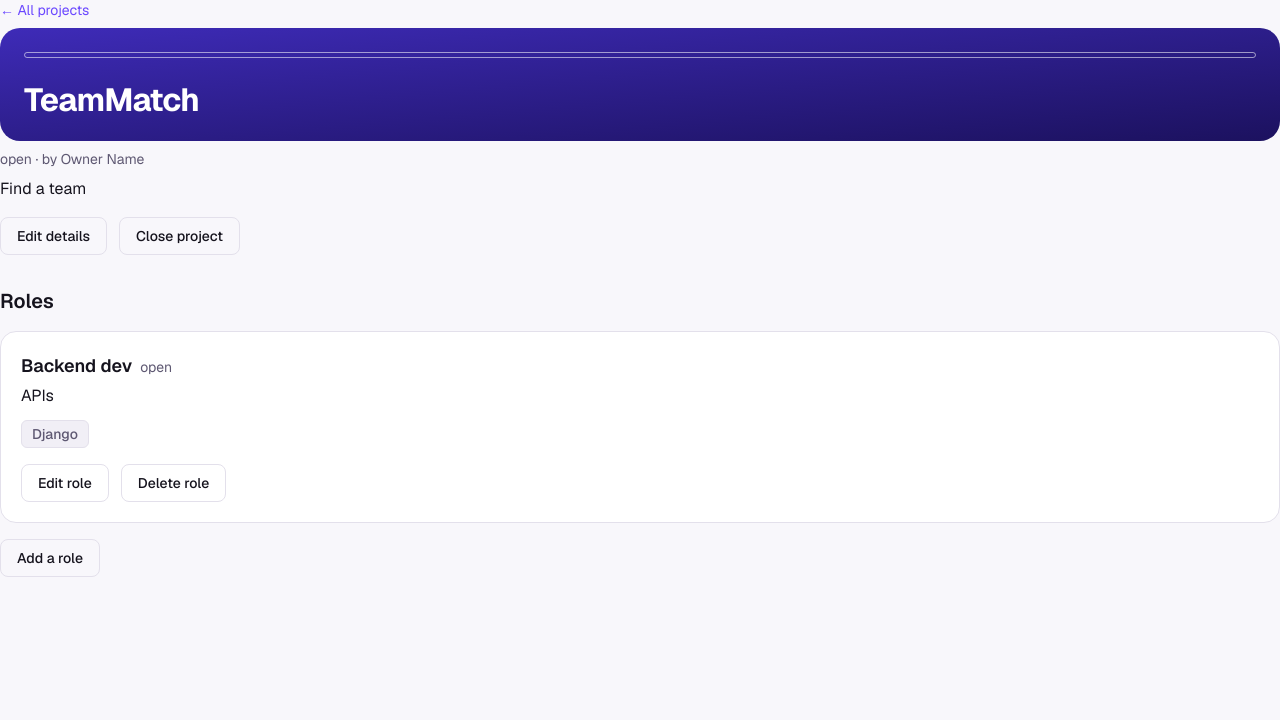
Test: shows the server's reason when a project can't be closed
Click the button "Close project" at (179, 236), box [119, 217, 240, 255]
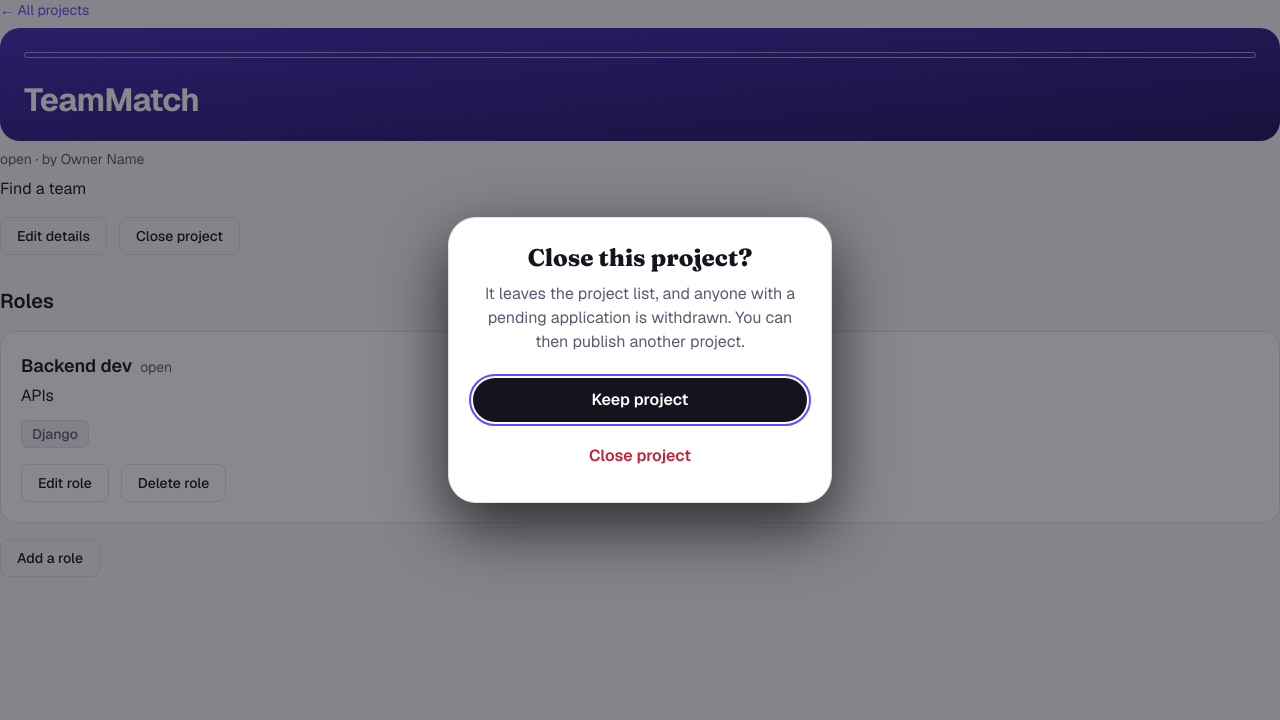
Click the button "Close project" at (640, 456), box [569, 434, 711, 478]
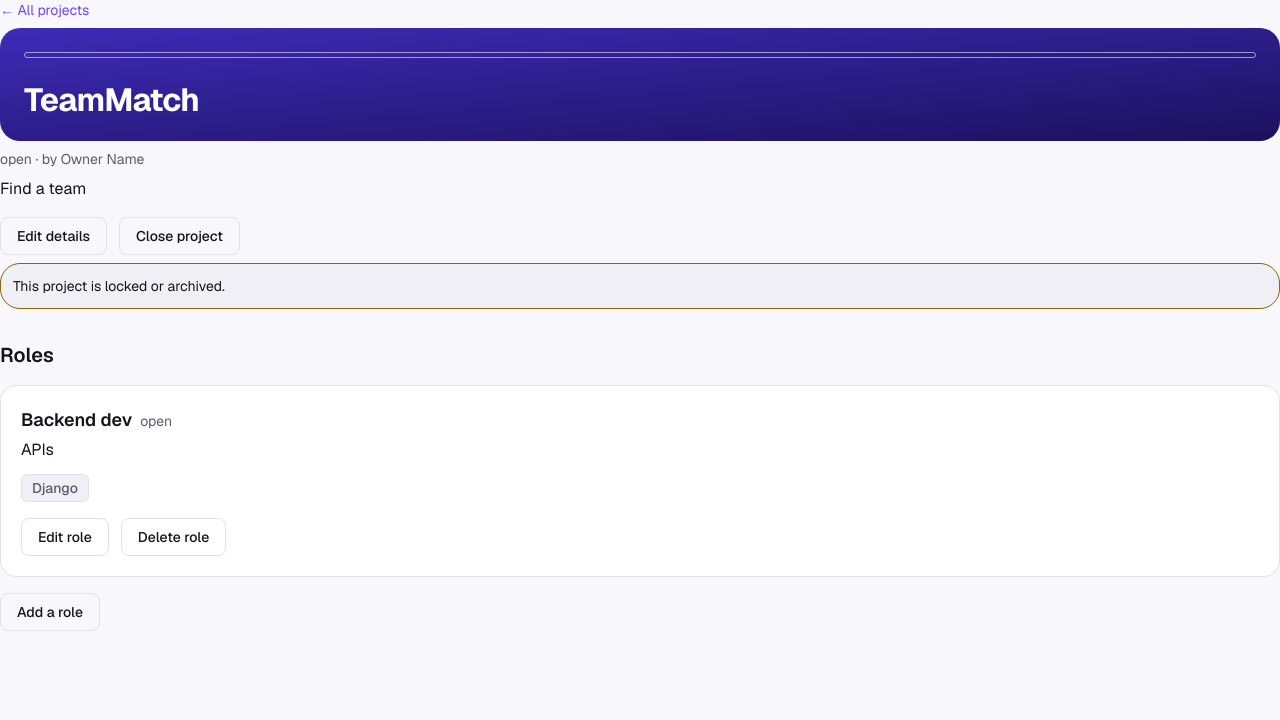
Expected: the message reads "This project is locked or archived.", [13, 277, 225, 295]
